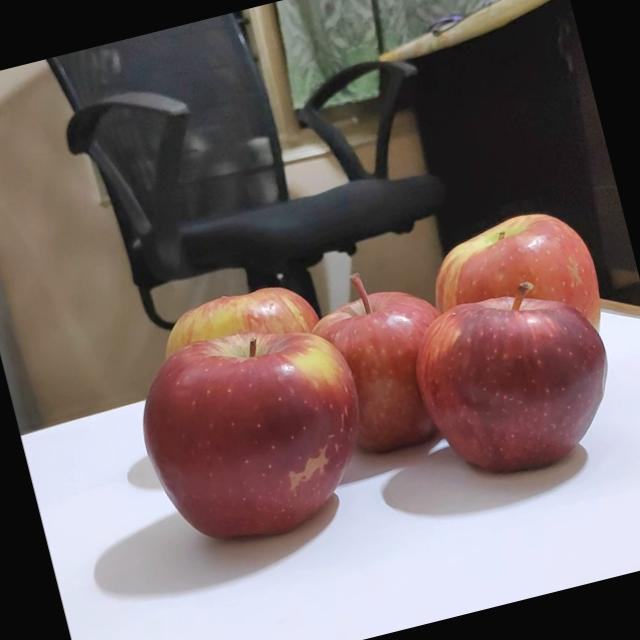apple: (116, 304, 389, 565), (402, 265, 636, 490), (292, 251, 484, 469), (416, 198, 618, 388), (143, 271, 340, 434)
